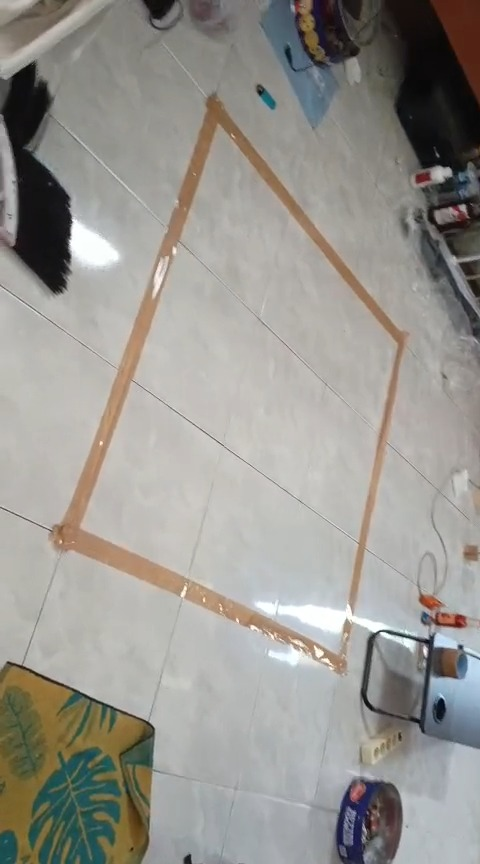floor marking: (52, 95, 407, 673)
